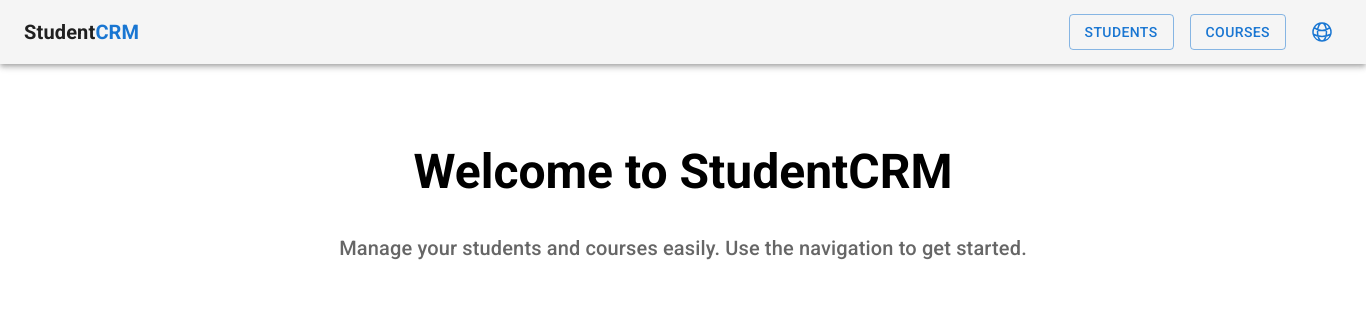
Test: App Component › Renders all pages
Check: the element that starts with "Welcome to StudentCRM" is shown, box left=339, top=143, right=1027, bottom=260
Click the button "Students". click: (1121, 32)
box: left=1068, top=14, right=1174, bottom=50
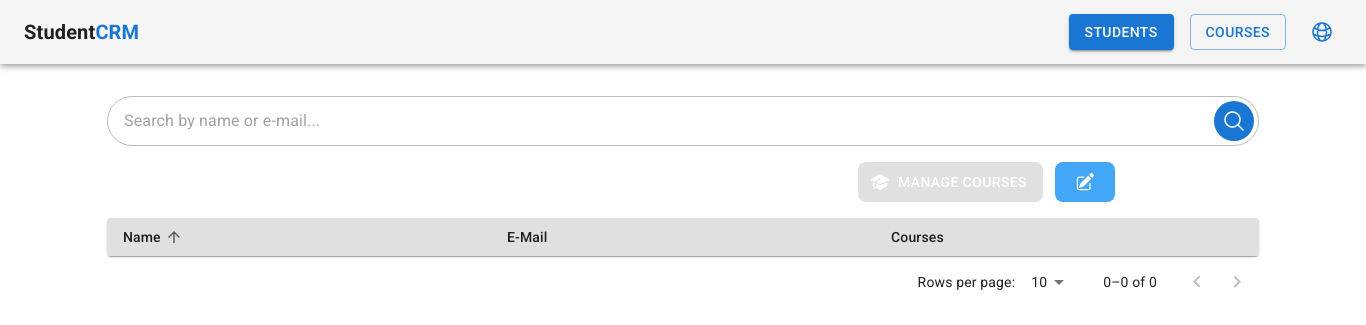
Check: the element that starts with "Manage Courses" is shown, box left=107, top=96, right=1259, bottom=308
Click the button "Courses". click: (1238, 32)
box: left=1190, top=14, right=1286, bottom=50
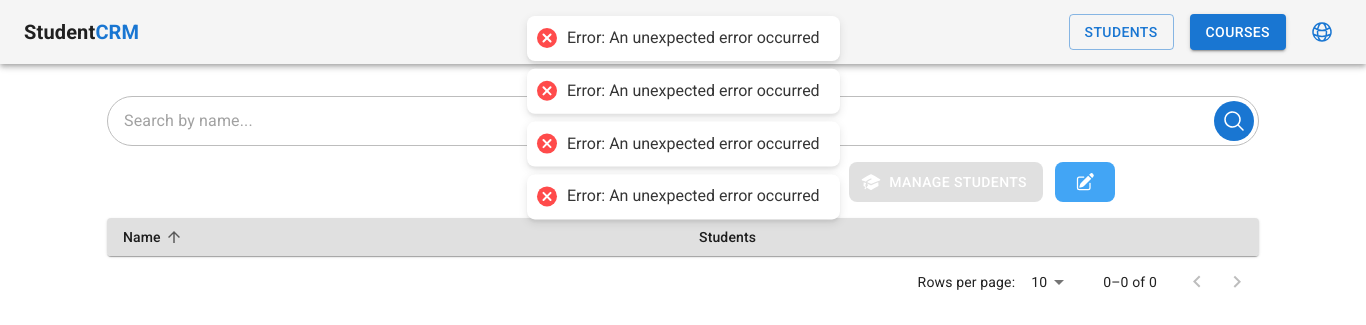
Check: the element showing "Manage Students Name Students Rows per page: 10 0–0 of 0" is shown, box left=107, top=96, right=1259, bottom=308
